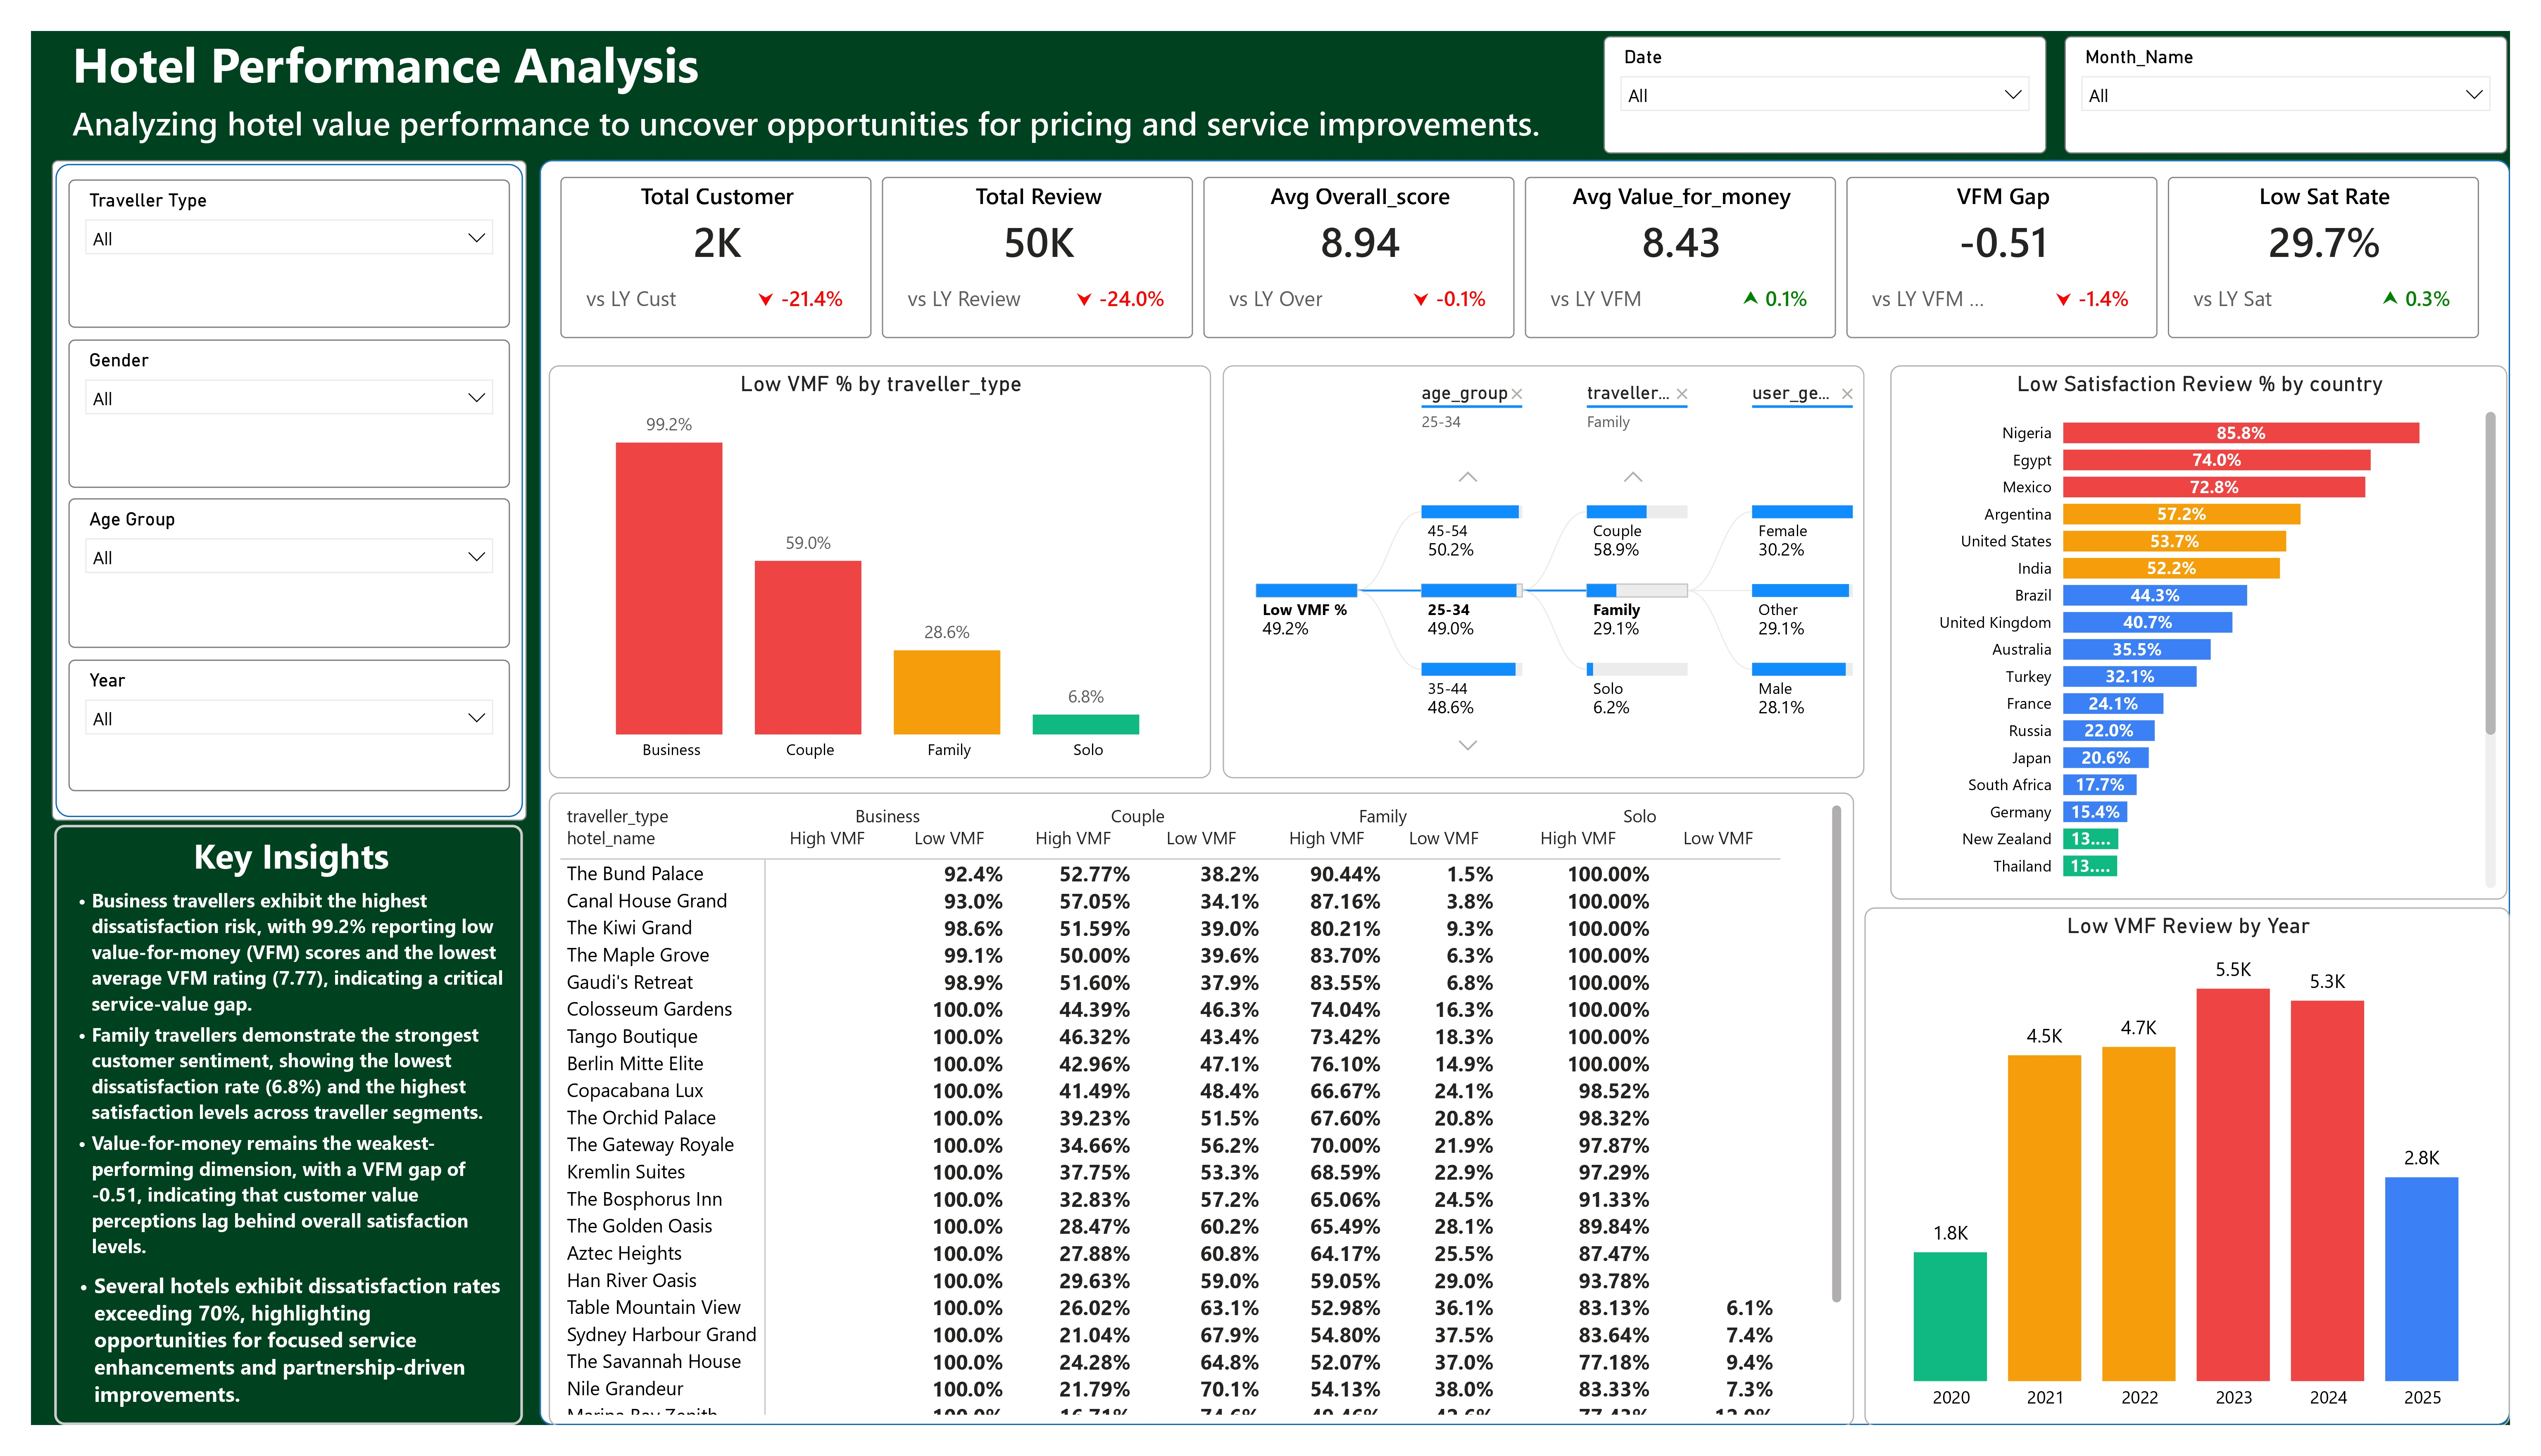

Layout of this report page (visuals, bound fields, positions):
{"tool":"powerbi","page":{"name":"Hotel Performance Analysis","canvas":[1920,1080],"ordinal":2},"visuals":[{"type":"shape","box":[394,100,1526,980],"z":0},{"type":"shape","box":[16.4,100.2,367.5,512],"z":2000},{"type":"slicer","fields":{"Values":["users.traveller_type"]},"box":[28.8,114.7,342.7,115.6],"z":3000},{"type":"slicer","fields":{"Values":["users.user_gender"]},"box":[28.8,238.5,342.7,115.6],"z":4000},{"type":"slicer","title":"Age_Group","fields":{"Values":["users.age_group"]},"box":[28.8,362.4,342.7,115.6],"z":5000},{"type":"slicer","fields":{"Values":["Date.Year"]},"box":[29.5,487,341.7,102.1],"z":6000},{"type":"textbox","title":"Hotel Performance Analysis","box":[26.8,0,1190.5,90.3],"z":7000},{"type":"slicer","title":"Age_Group","fields":{"Values":["Date.Month_Name"]},"box":[1575.2,4.1,342.7,90.8],"z":8000},{"type":"slicer","title":"Age_Group","fields":{"Values":["Date.Date"]},"box":[1218.1,4.1,342.7,90.8],"z":9000},{"type":"shape","title":"Key Insights","box":[17.6,614.9,363.7,465.1],"z":10000},{"type":"textbox","box":[19.6,657.8,363.3,119.8],"z":11000},{"type":"textbox","box":[19.6,761.9,363.3,100.1],"z":12000},{"type":"textbox","box":[19.6,846.3,361.3,110],"z":13000},{"type":"textbox","box":[19.6,956.3,353.5,123.7],"z":14000},{"type":"decompositionTreeVisual","fields":{"Analyze":["Measure.Low VMF %"],"ExplainBy":["users.age_group","users.traveller_type","users.user_gender"]},"box":[922.7,258.6,497.5,320],"z":15000},{"type":"barChart","fields":{"Y":["Measure.Low Satisfaction Rate%"],"Category":["hotels.country"]},"box":[1440,258.6,477.8,414.2],"z":16000},{"type":"columnChart","fields":{"Y":["Measure.Low VMF %"],"Category":["users.traveller_type"]},"box":[401.1,258.6,512.9,320],"z":17000},{"type":"pivotTable","fields":{"Values":["Measure.High VMF%","Measure.Low VMF %"],"Columns":["users.traveller_type"],"Rows":["hotels.hotel_name"]},"box":[401.1,589.6,1010.4,491],"z":18000},{"type":"clusteredColumnChart","fields":{"Category":["Date.Year"],"Y":["Measure.Low VMF"]},"box":[1420.3,679.5,499.7,401.1],"z":19000},{"type":"cardVisual","fields":{"Data":["Measure.Total Customer","Measure.Total Review","Measure.Aov Overall_score","Measure.Avg Value_for_money","Measure.Gap VMF","Measure.Low Satisfaction Review %"]},"box":[392.9,96,1524.8,156.3],"z":19001}]}

Visuals, with their boxes on the page's 1920x1080 design canvas (x1, y1, x2, y2). These are canvas units, not pixel positions in the 2541x1456 screenshot, which may show the page scaled, cropped or inside an application window:
shape: (left=394, top=100, right=1920, bottom=1080)
shape: (left=16, top=100, right=384, bottom=612)
slicer - users.traveller_type: (left=29, top=115, right=372, bottom=230)
slicer - users.user_gender: (left=29, top=238, right=372, bottom=354)
"Age_Group" slicer: (left=29, top=362, right=372, bottom=478)
slicer - Date.Year: (left=30, top=487, right=371, bottom=589)
"Hotel Performance Analysis" textbox: (left=27, top=0, right=1217, bottom=90)
"Age_Group" slicer: (left=1575, top=4, right=1918, bottom=95)
"Age_Group" slicer: (left=1218, top=4, right=1561, bottom=95)
"Key Insights" shape: (left=18, top=615, right=381, bottom=1080)
textbox: (left=20, top=658, right=383, bottom=778)
textbox: (left=20, top=762, right=383, bottom=862)
textbox: (left=20, top=846, right=381, bottom=956)
textbox: (left=20, top=956, right=373, bottom=1080)
decompositionTreeVisual - Measure.Low VMF % x users.age_group: (left=923, top=259, right=1420, bottom=579)
barChart - Measure.Low Satisfaction Rate% x hotels.country: (left=1440, top=259, right=1918, bottom=673)
columnChart - Measure.Low VMF % x users.traveller_type: (left=401, top=259, right=914, bottom=579)
pivotTable - Measure.High VMF% x Measure.Low VMF %: (left=401, top=590, right=1412, bottom=1081)
clusteredColumnChart - Date.Year x Measure.Low VMF: (left=1420, top=680, right=1920, bottom=1081)
cardVisual - Measure.Total Customer x Measure.Total Review: (left=393, top=96, right=1918, bottom=252)
